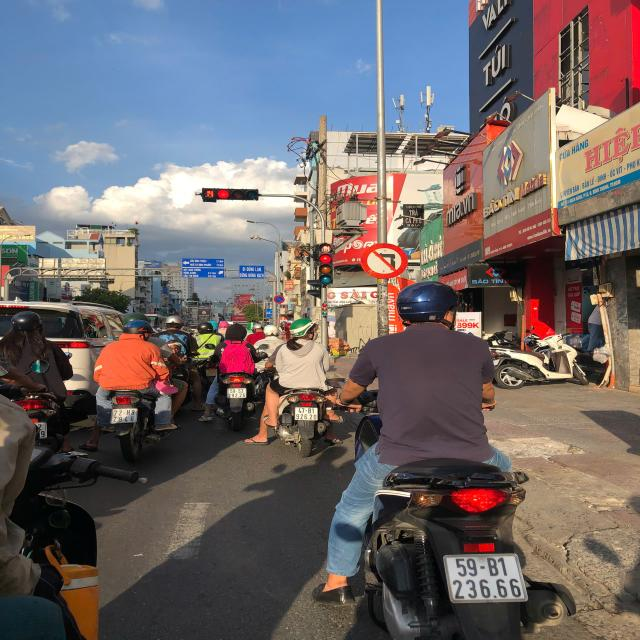Bien bao cam re trai: (355, 240, 411, 280)
